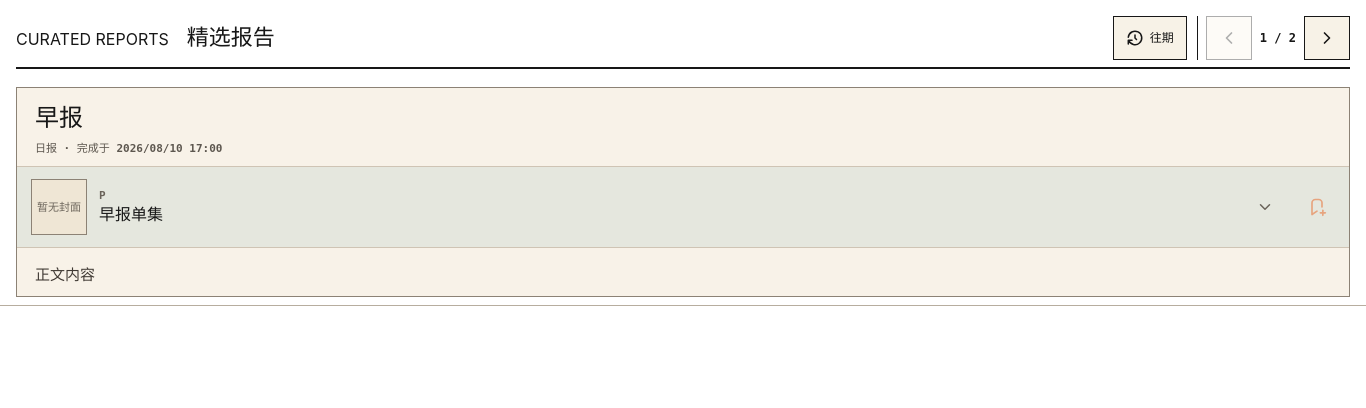
Test: WorkflowReportWorkbench › switches reports via compact header controls while collapsing episodes
Click the button named "展开单集详情：早报单集".
click(1265, 207)  # box [1243,185,1287,229]
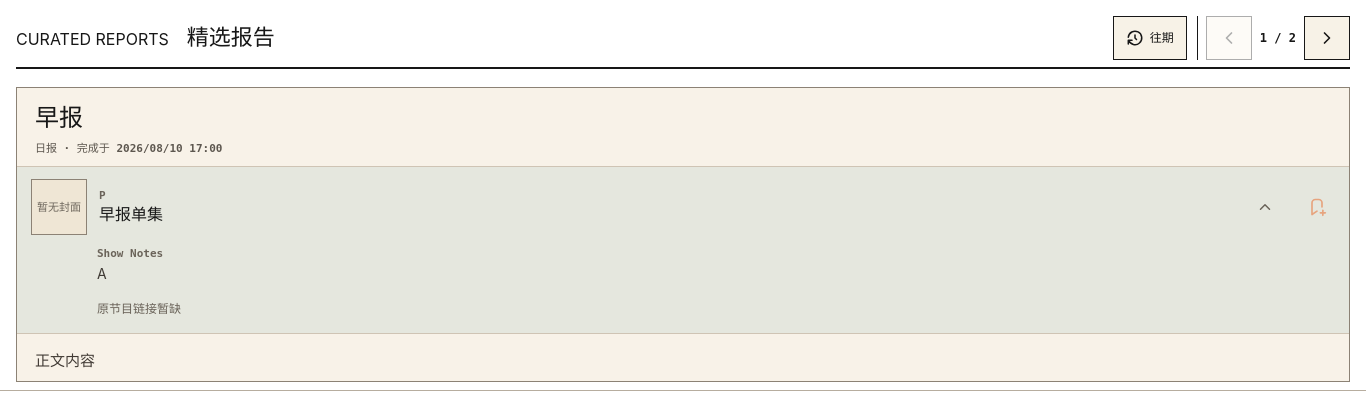
expect the heading "早报" is shown: met, box [35,105,83,131]
expect the text "Show Notes" is shown: met, box [97,247,163,260]
Click the button named "查看更早一份报告".
click(1327, 38)  # box [1304,16,1350,60]
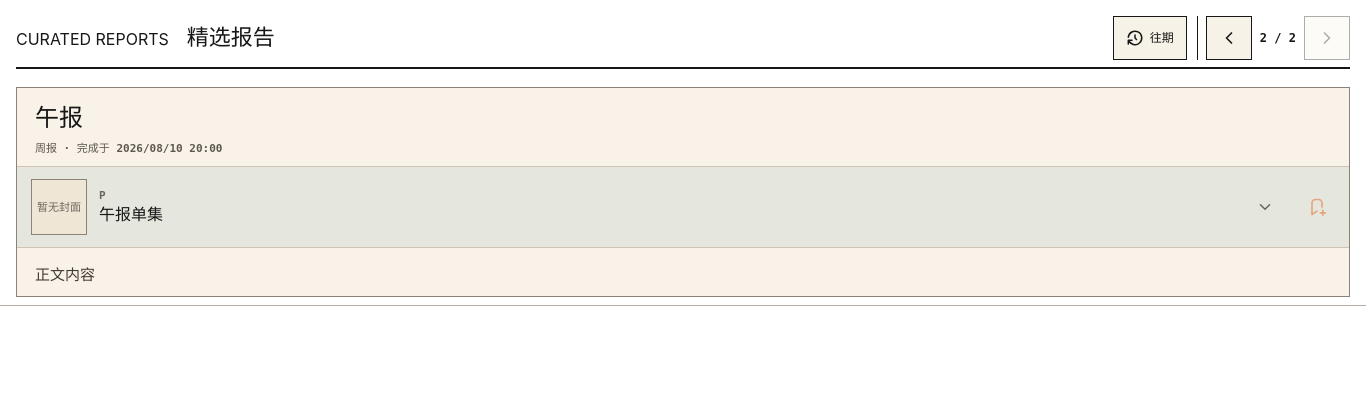
expect the heading "午报单集" is shown: met, box [99,206,163,223]
expect the heading "午报" is shown: met, box [35,105,83,131]
expect the heading "早报" is gone: met
